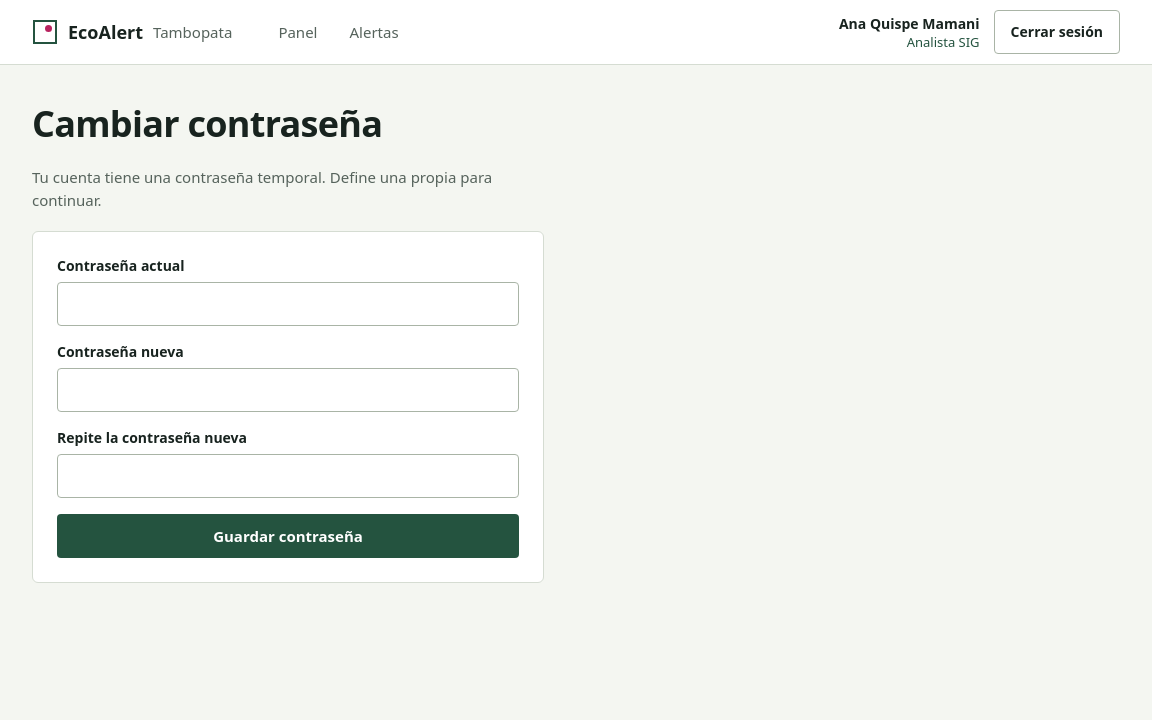
Test: CambiarPasswordPage (RF-02-AC-4) › muestra el error del servidor si la contraseña actual es incorrecta
Type "equivocada-123" into the password field labelled "Contraseña actual". click: coordinates (288, 304)
box: [57,282,519,326]
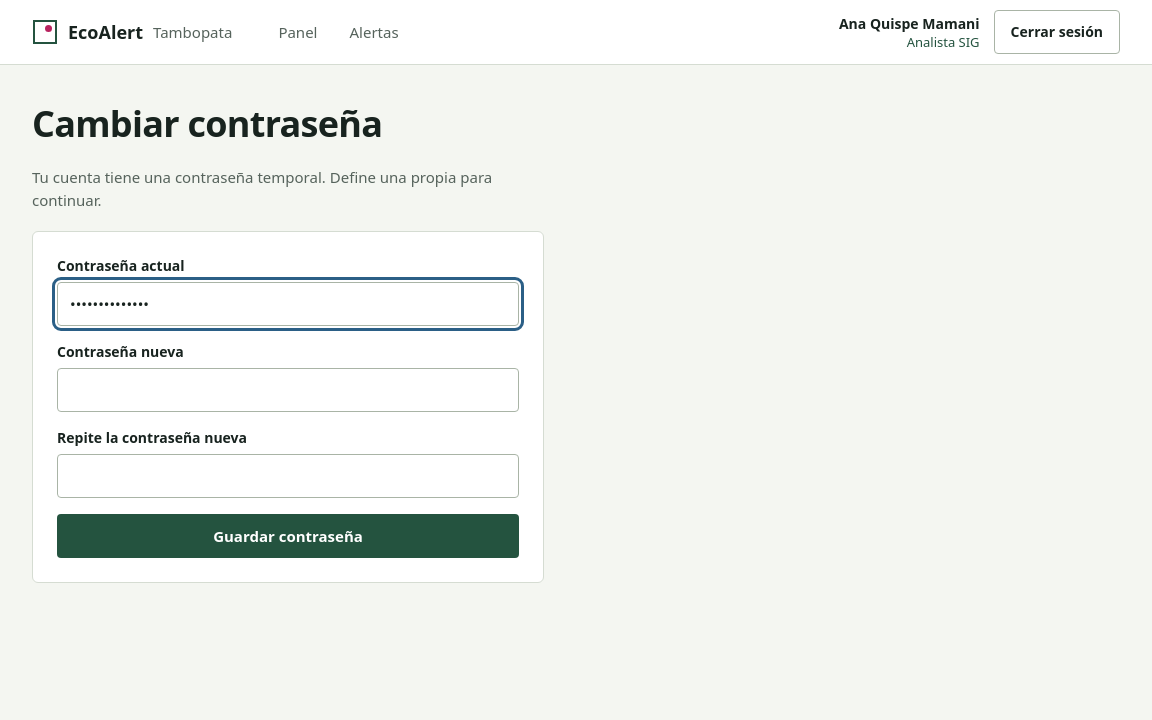
Type "Mi-clave-propia-2026" into the password field labelled "Contraseña nueva". click: coordinates (288, 390)
box: [57,368,519,412]
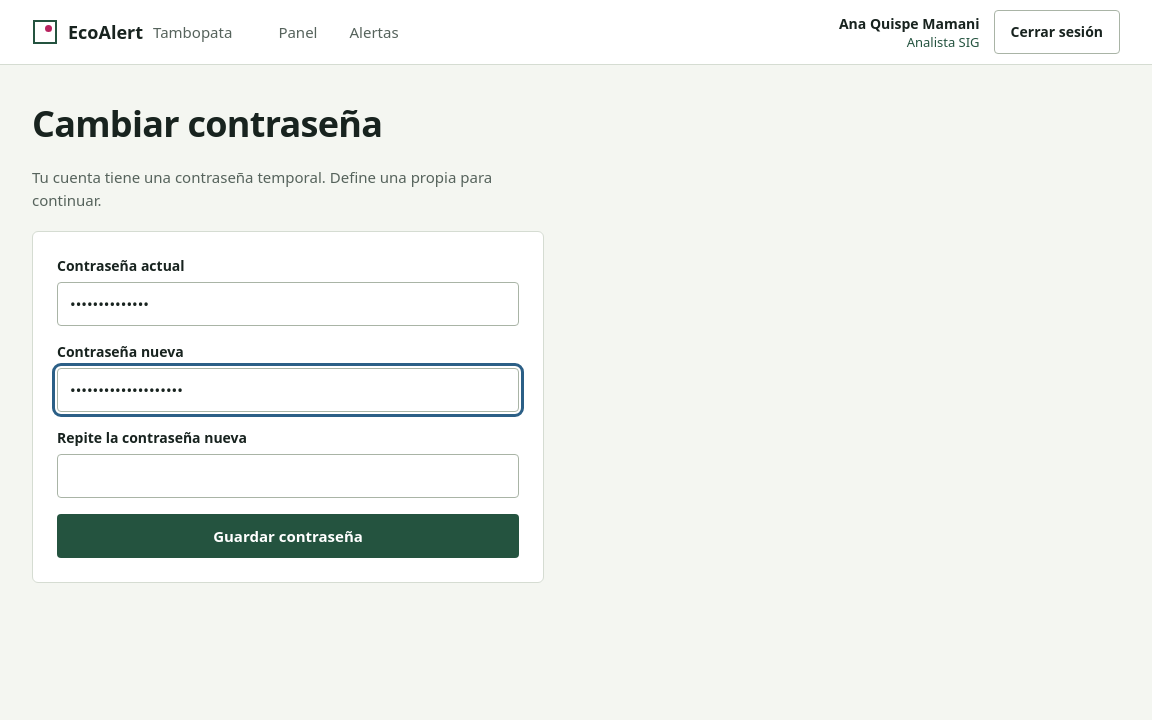
Type "Mi-clave-propia-2026" into the password field labelled "Repite la contraseña nueva". click: coordinates (288, 476)
box: [57,454,519,498]
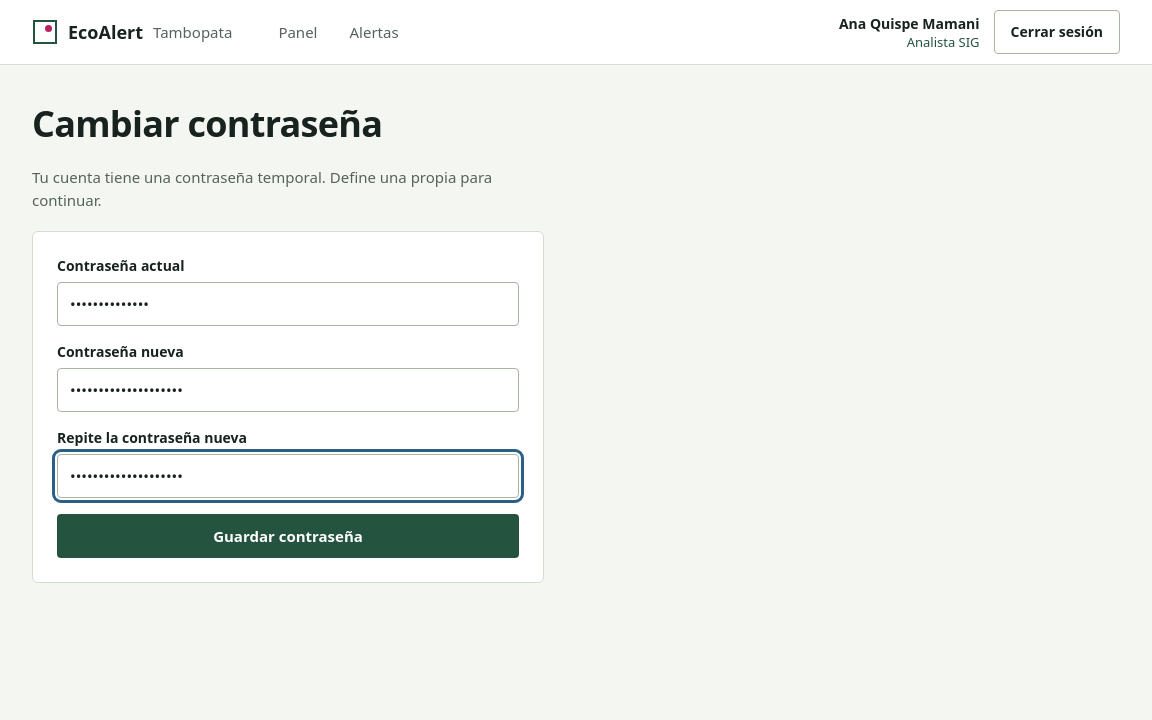
Click the button "Guardar contraseña". click: coordinates (288, 536)
box: [57,514,519,558]
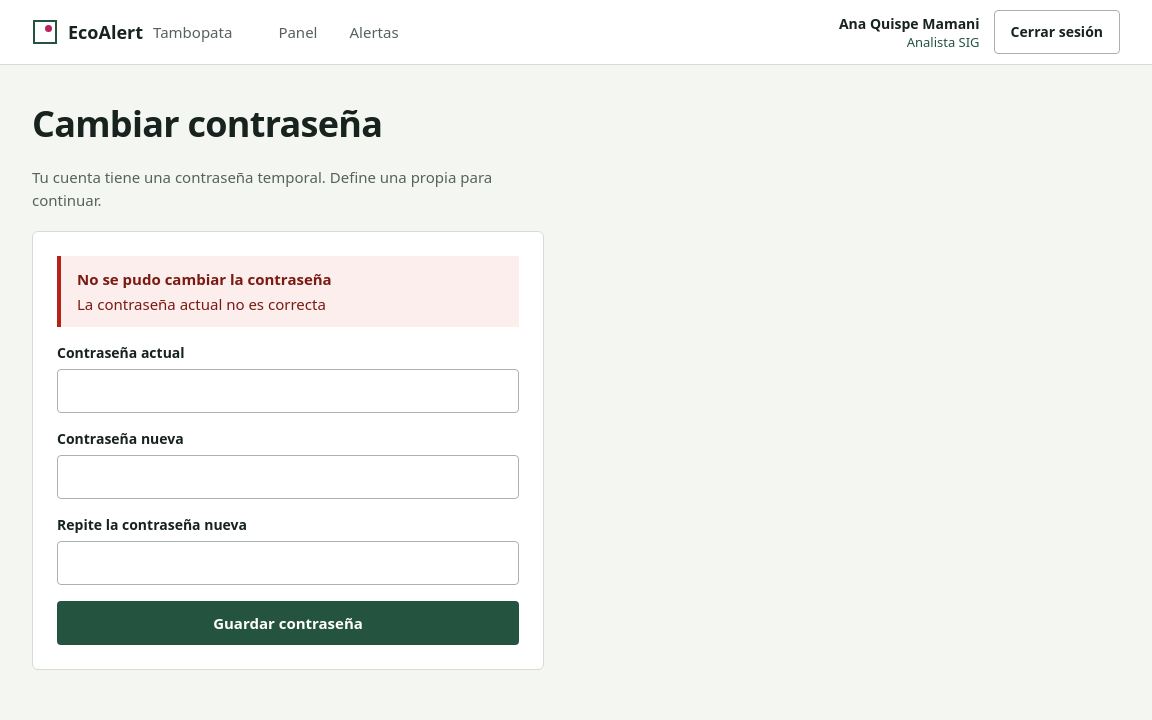
Result: the message shows "La contraseña actual no es correcta" at [77,294,326,314]
